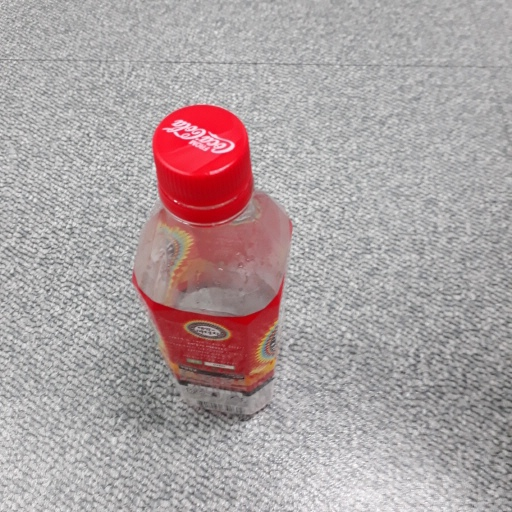Plastic_0: (130, 104, 294, 428)
